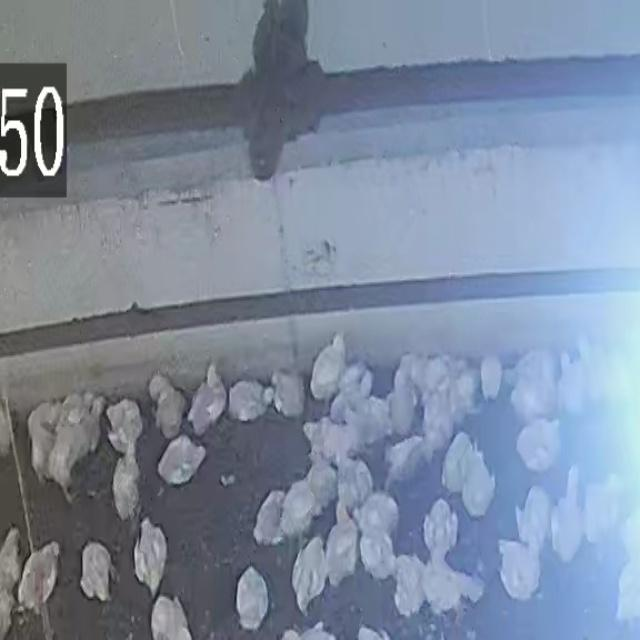chicken: (418, 546, 484, 616), (507, 347, 558, 424), (17, 542, 64, 612), (496, 536, 543, 604), (27, 400, 62, 490), (291, 534, 328, 616), (304, 417, 360, 471), (133, 518, 169, 598), (308, 331, 348, 403), (556, 465, 586, 560), (188, 365, 228, 436), (323, 515, 360, 590), (148, 372, 187, 441), (278, 478, 320, 541), (514, 486, 552, 554), (582, 473, 622, 536), (385, 435, 428, 493), (235, 564, 271, 633), (104, 398, 145, 458), (392, 552, 428, 619), (154, 441, 208, 485), (355, 490, 399, 544), (79, 540, 116, 604), (334, 452, 374, 511), (422, 498, 459, 560), (420, 391, 455, 453), (514, 421, 560, 468), (330, 362, 370, 416), (465, 450, 495, 519), (445, 431, 478, 493), (150, 593, 194, 639), (270, 368, 308, 421), (252, 489, 286, 548), (227, 378, 269, 424), (75, 406, 106, 463), (386, 383, 416, 438), (556, 353, 583, 413), (451, 368, 480, 419), (478, 355, 503, 401)
